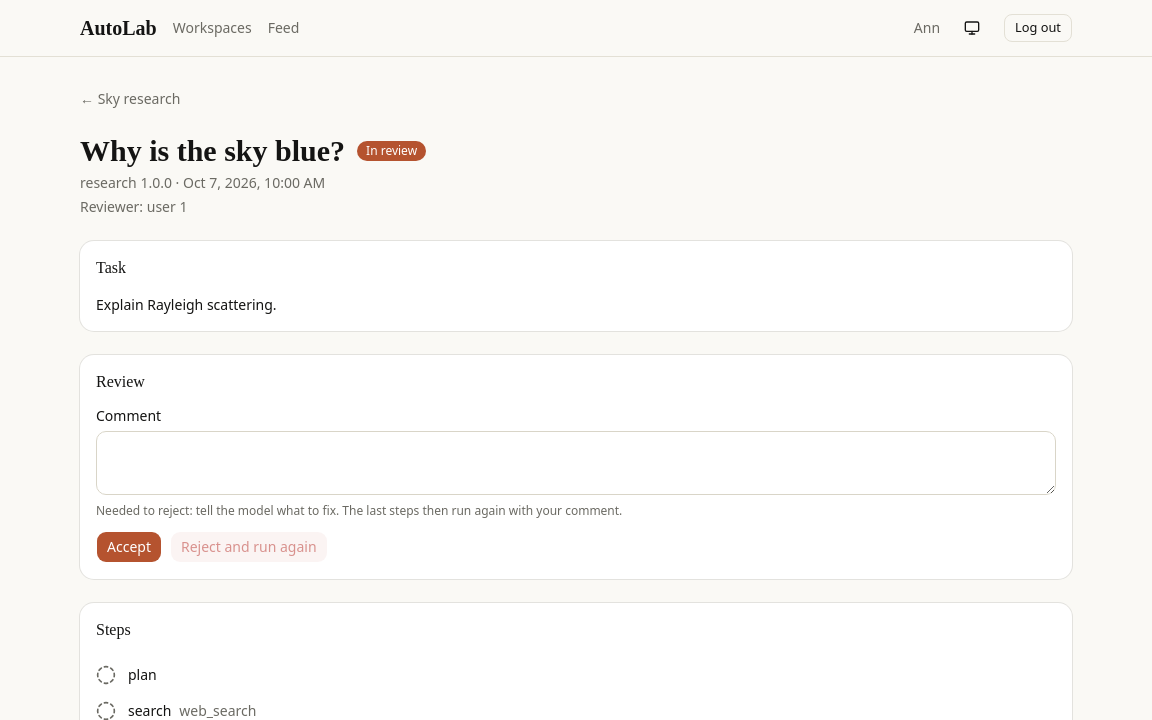
Scenario: the assigned reviewer accepts
What coordinates should you click on to do the following:
click the button "Accept"
I would click on:
 (129, 547)
Its box is 96,531 -> 162,563.
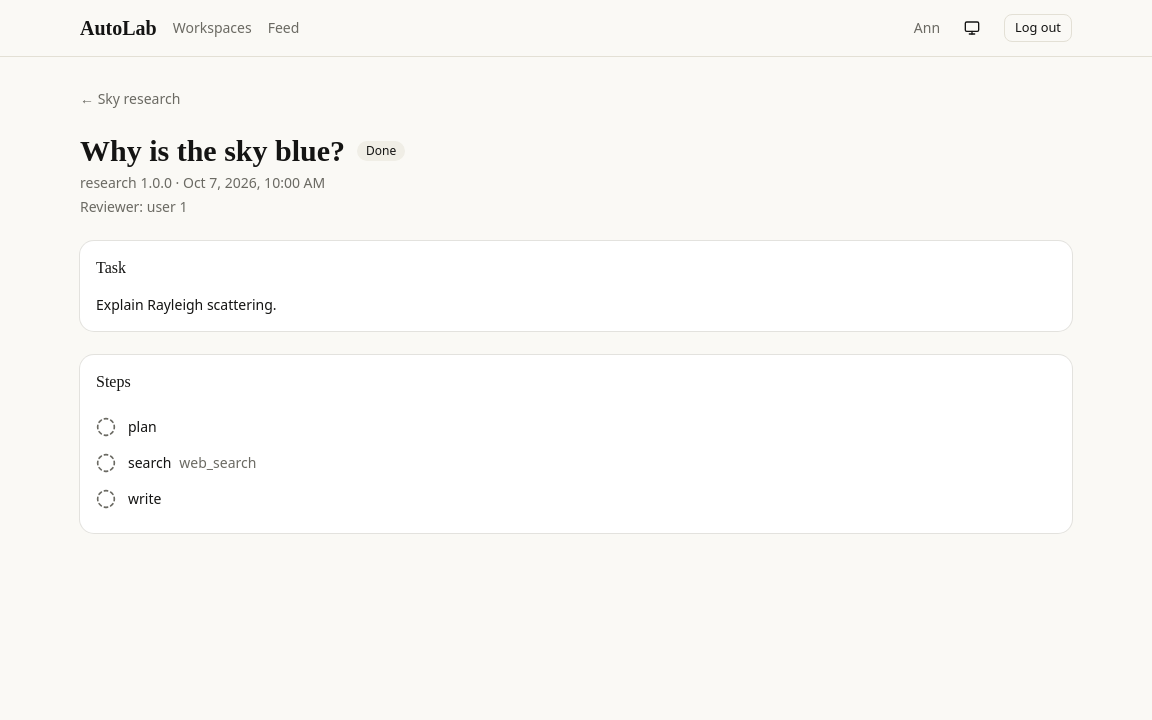
Check: the icon "Done" is shown, box 357,141 -> 405,161
